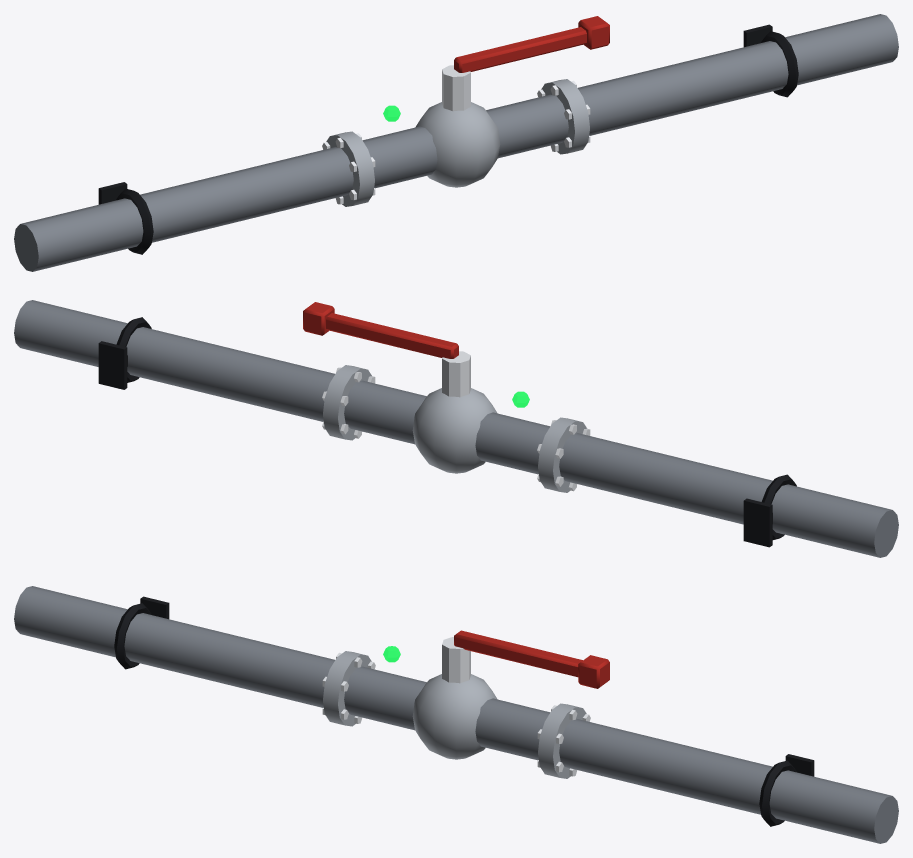
The model's file is pipe_valve_lever.glb.
3 views of the same model, one above another, from view 1: azimuth 30°, elevation 25°; view 2: azimuth 150°, elevation 25°; view 3: azimuth 330°, elevation 25° (orthographic).
Parts seen in each view (by area): view 1: pipe_valve_lever; view 2: pipe_valve_lever; view 3: pipe_valve_lever.
Part boxes in pixels (left/top/right/bottom): pipe_valve_lever: left=14, top=14, right=898, bottom=271; pipe_valve_lever: left=14, top=300, right=898, bottom=557; pipe_valve_lever: left=14, top=586, right=898, bottom=843.
Bounding box in the file's own units: 2 × 0.285 × 0.18.
